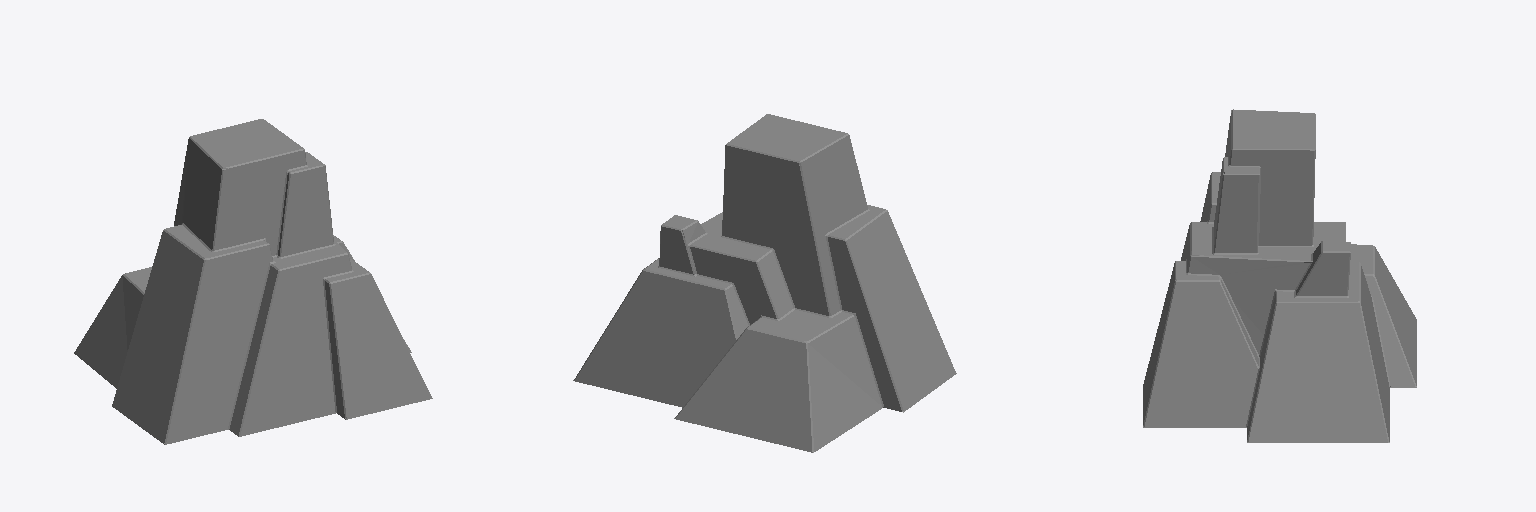
Rendered from RockLarge01.obj.
3 renders of one model, left to right at view 1: azimuth 30°, elevation 25°; view 2: azimuth 150°, elevation 25°; view 3: azimuth 270°, elevation 25°, orthographic.
Visible parts, largest first — view 1: Box047; view 2: Box047; view 3: Box047.
Part boxes in pixels (left/top/right/bottom): Box047: left=74, top=119, right=432, bottom=444; Box047: left=573, top=114, right=956, bottom=452; Box047: left=1143, top=109, right=1416, bottom=442.
Size of the model in its own units: 828 by 672 by 701.